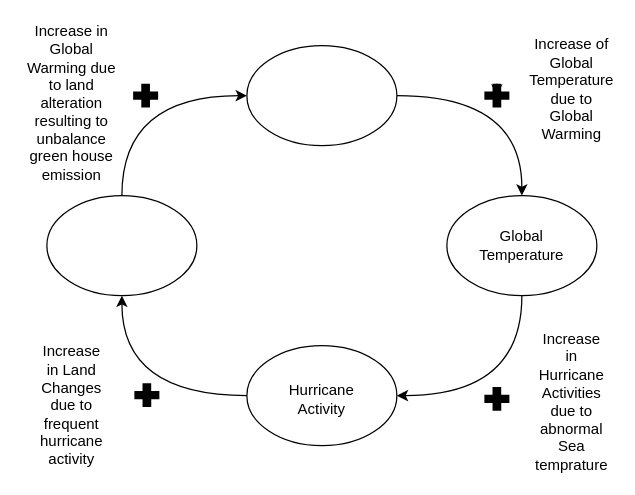
The diagram is 635 pixels wide and 495 high, and some of its shapes have lost their labels. Here are the shapes that lost their labels. From the top down, the centre of each, then its label:
At [321,95]: "Global Warming".
At [121,245]: "Land Changes".
